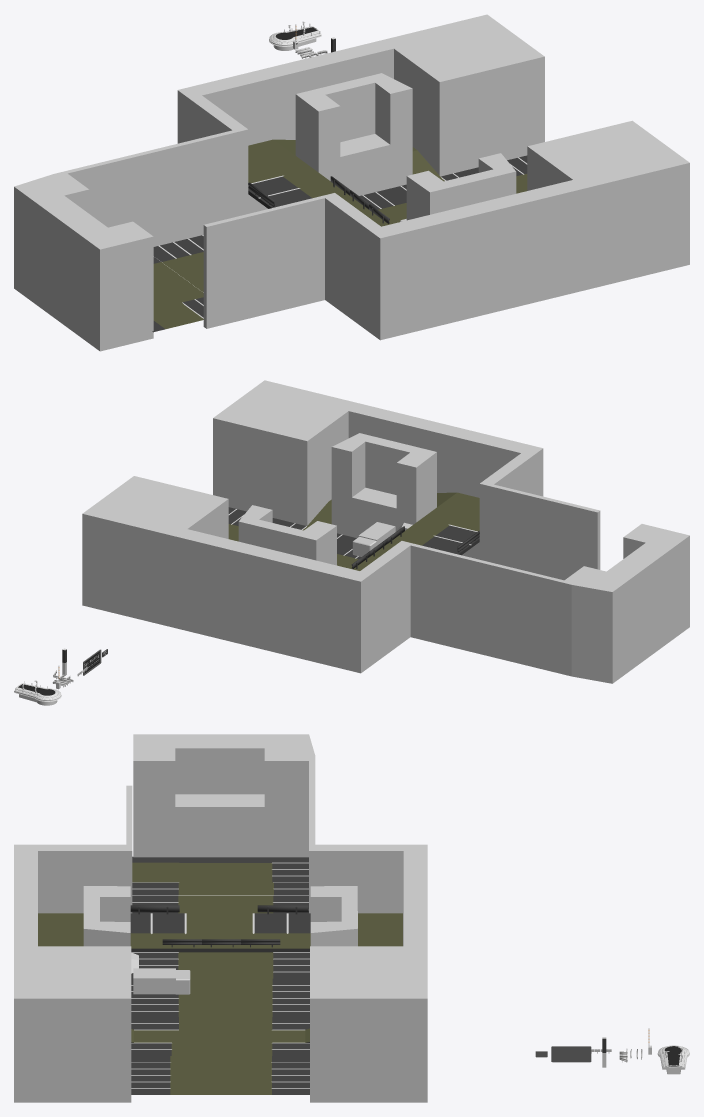
The model's file is carparkprop.fbx.
3 renders of one model, top to bottom at view 1: azimuth 30°, elevation 25°; view 2: azimuth 150°, elevation 25°; view 3: azimuth 270°, elevation 25°, orthographic. The views are drawn at different scales.
Parts seen in each view (by area): view 1: Cube.029, Cube.027, Cube.030, Cube.026, Cube.028, Plane.001, Plane.005, Plane.004, Plane; view 2: Cube.029, Cube.027, Cube.028, Cube.026, Cube.030; view 3: Cube.029, Cube.027, Cube.026, Plane, Plane.001, Plane.003, Plane.004, Plane.002, Cube.028, Cube.030, Plane.005, Cube.035 (+2 smaller).
Part boxes in pixels (bbox=[...]): Cube.029: bbox=[14, 14, 544, 351]; Cube.027: bbox=[203, 120, 689, 340]; Cube.030: bbox=[248, 73, 412, 213]; Cube.026: bbox=[248, 139, 441, 226]; Cube.028: bbox=[406, 153, 516, 220]; Plane.001: bbox=[152, 257, 203, 332]; Plane.005: bbox=[153, 235, 203, 292]; Plane.004: bbox=[359, 189, 406, 224]; Plane: bbox=[466, 155, 527, 193]; Cube.029: bbox=[82, 476, 689, 683]; Cube.027: bbox=[213, 380, 600, 580]; Cube.028: bbox=[331, 433, 479, 559]; Cube.026: bbox=[306, 492, 479, 570]; Cube.030: bbox=[238, 505, 336, 565]; Cube.029: bbox=[133, 734, 427, 1102]; Cube.027: bbox=[14, 785, 132, 1102]; Cube.026: bbox=[38, 913, 402, 1042]; Plane: bbox=[131, 1056, 309, 1094]; Plane.001: bbox=[132, 856, 308, 895]; Plane.003: bbox=[131, 1017, 309, 1055]; Plane.004: bbox=[131, 978, 309, 1017]; Plane.002: bbox=[131, 952, 309, 978]; Cube.028: bbox=[83, 886, 138, 973]; Cube.030: bbox=[310, 886, 357, 946]; Plane.005: bbox=[132, 895, 308, 913]; Cube.035: bbox=[133, 968, 175, 994].
Bounding box in the file's own units: 32334 × 5980 × 34923.
